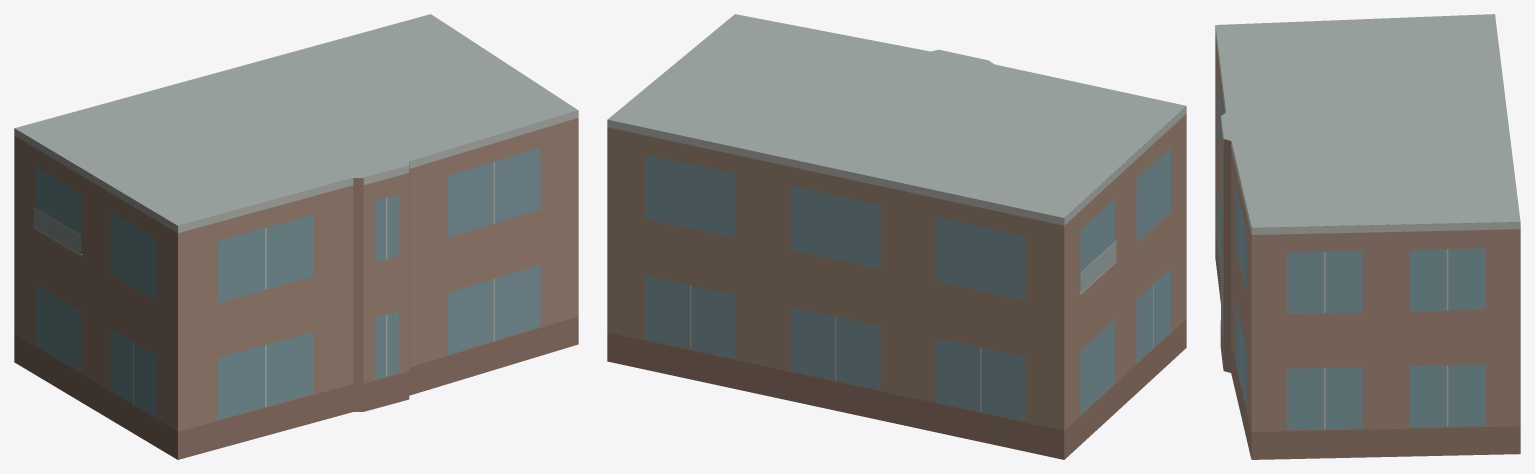
Rendered from survey-upis-32621808.glb.
3 renders of one model, left to right at view 1: azimuth 30°, elevation 25°; view 2: azimuth 150°, elevation 25°; view 3: azimuth 270°, elevation 25°, orthographic. The views are drawn at different scales.
Visible parts, largest first — view 1: survey-upis-32621808.tmp; view 2: survey-upis-32621808.tmp; view 3: survey-upis-32621808.tmp.
Boxes of the visible parts, box(x1,y1,x2,y2) form: survey-upis-32621808.tmp: box(14, 14, 578, 459); survey-upis-32621808.tmp: box(607, 14, 1186, 459); survey-upis-32621808.tmp: box(1215, 14, 1520, 459).
Bounding box in the file's own units: 15.21 × 7.7 × 9.18.
